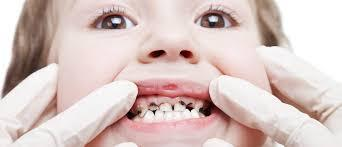cavity: (133, 102, 150, 118), (156, 101, 175, 113), (181, 98, 198, 111), (172, 99, 187, 112), (146, 101, 160, 114), (143, 108, 157, 121), (190, 100, 208, 110)
normal: (154, 109, 167, 124), (183, 108, 194, 120), (162, 110, 174, 121), (173, 109, 182, 122), (190, 110, 202, 119)
